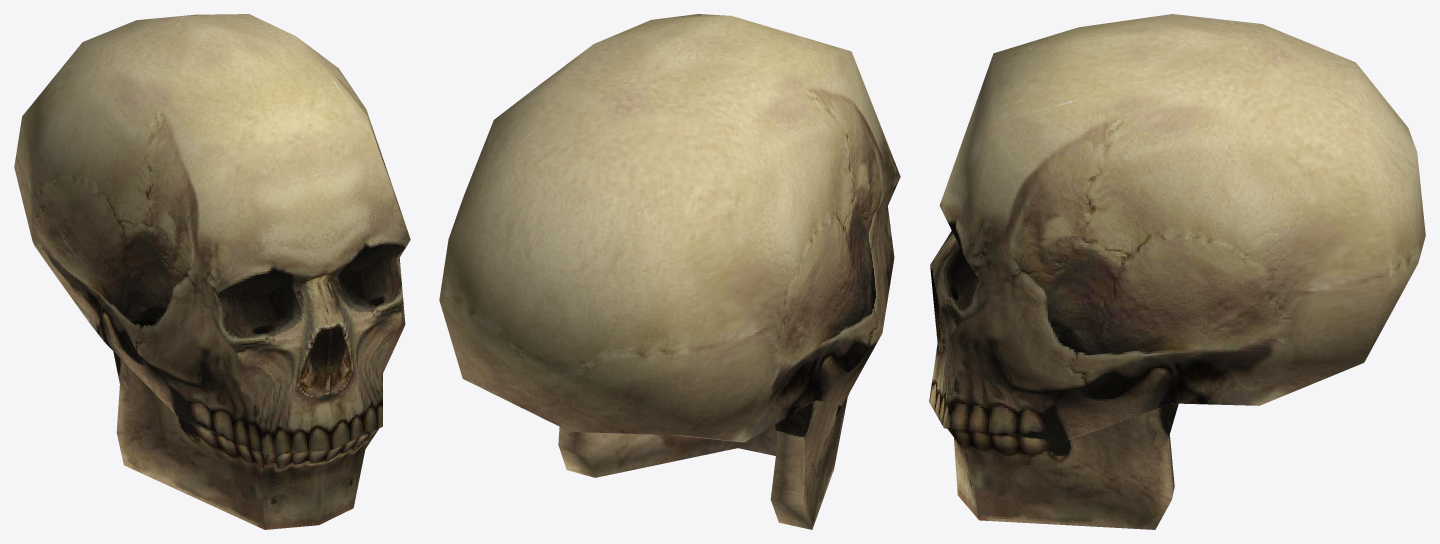
The model's file is cursed_skull_1.fbx.
3 views of the same model, side by side, from view 1: azimuth 30°, elevation 25°; view 2: azimuth 150°, elevation 25°; view 3: azimuth 270°, elevation 25° (orthographic). The views are drawn at different scales.
Visible parts, largest first — view 1: Cursed Skull 1; view 2: Cursed Skull 1; view 3: Cursed Skull 1.
Part boxes in pixels (x1,y1,x2,y2): Cursed Skull 1: (14, 14, 410, 529); Cursed Skull 1: (439, 14, 900, 529); Cursed Skull 1: (929, 14, 1425, 529).
Size of the model in its own units: 38.72 by 56.57 by 54.9.
